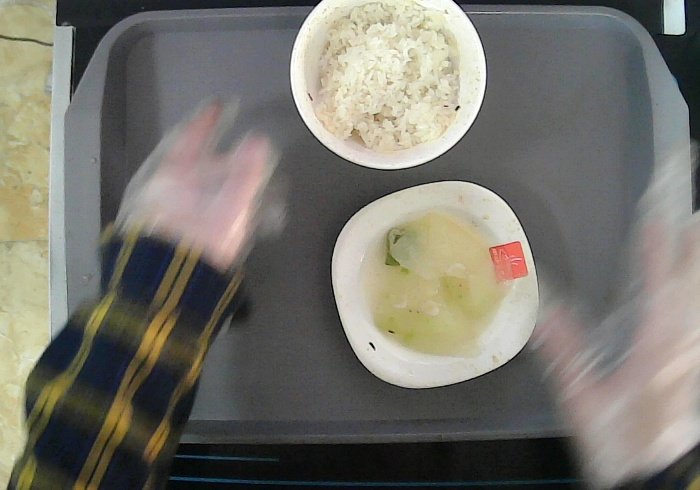SHKJ-Bai_Se_Si_Fang_Cai_Die: (325, 175, 547, 397)
SHKJ-Fan_Wan: (285, 4, 499, 175)
